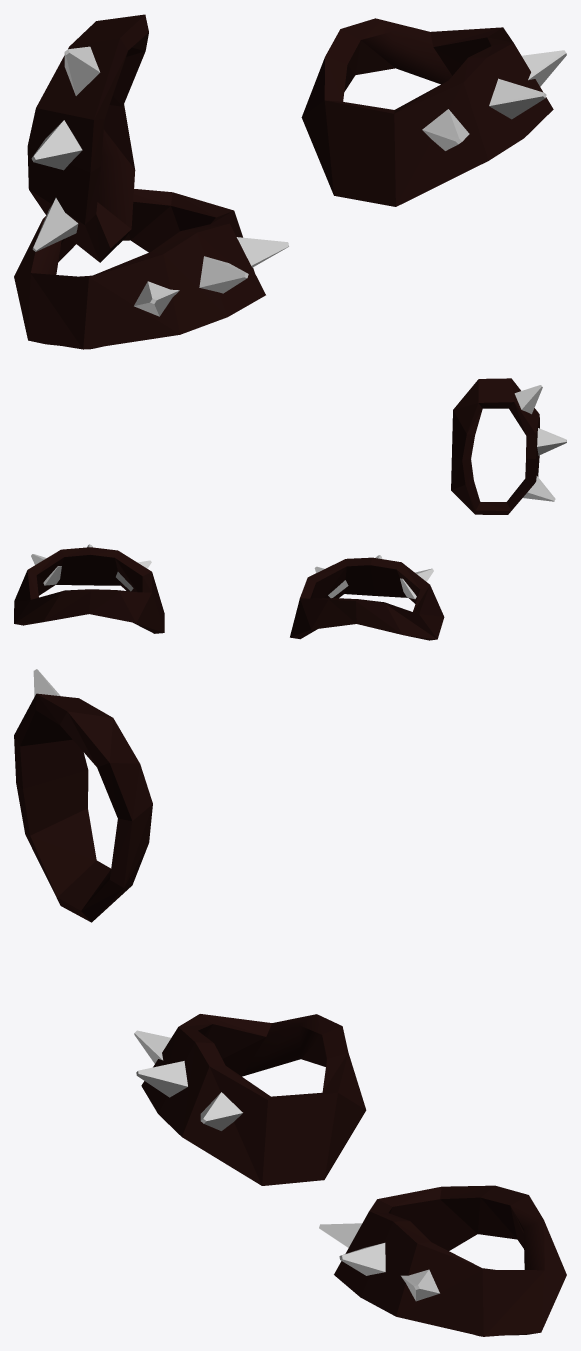
3 renders of one model, top to bottom at view 1: azimuth 30°, elevation 25°; view 2: azimuth 150°, elevation 25°; view 3: azimuth 270°, elevation 25°, orthographic. The views are drawn at different scales.
Visible parts, largest first — view 1: feet_decor, feet_decor_002; view 2: feet_decor, feet_decor_002; view 3: feet_decor, feet_decor_002.
Part boxes in pixels (<box>): feet_decor: <box>14,18,566,349</box>; feet_decor_002: <box>27,14,148,262</box>; feet_decor: <box>14,544,444,640</box>; feet_decor_002: <box>451,378,566,514</box>; feet_decor: <box>134,1014,566,1336</box>; feet_decor_002: <box>14,669,152,922</box>.
Bounding box in the file's own units: 108 × 74.63 × 57.06.
